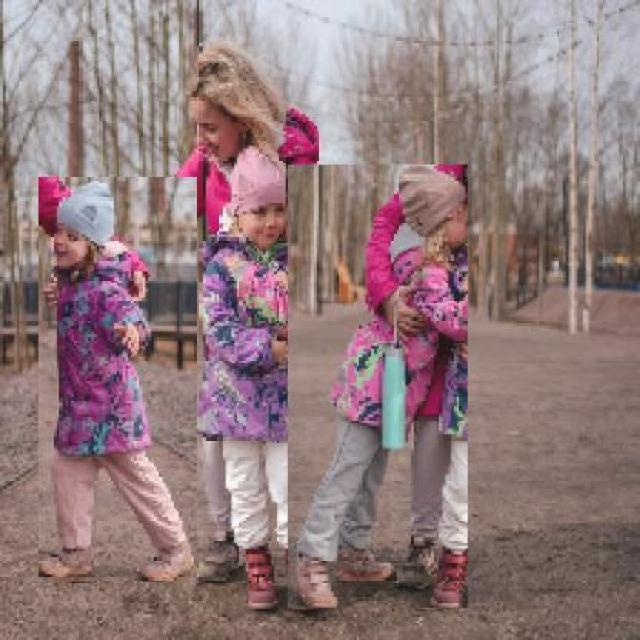child: (286, 165, 468, 609), (37, 177, 197, 583), (195, 142, 328, 615)
